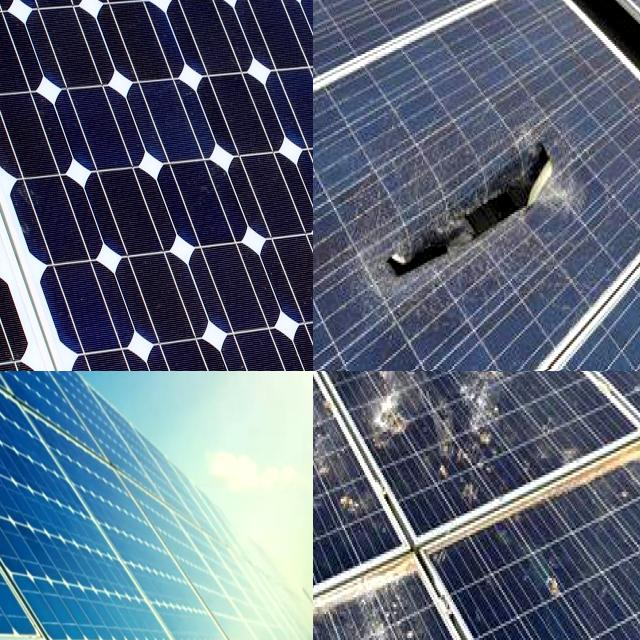bird: (313, 371, 359, 448), (459, 371, 504, 436), (323, 475, 374, 528), (372, 371, 409, 444), (313, 490, 337, 596), (540, 562, 570, 610), (363, 609, 406, 640), (460, 469, 484, 524), (313, 551, 333, 609), (313, 472, 335, 524), (313, 400, 342, 436), (589, 371, 640, 386), (618, 476, 640, 508)
crack: (0, 0, 313, 371), (0, 371, 313, 640)
hotspot: (333, 136, 592, 284)
